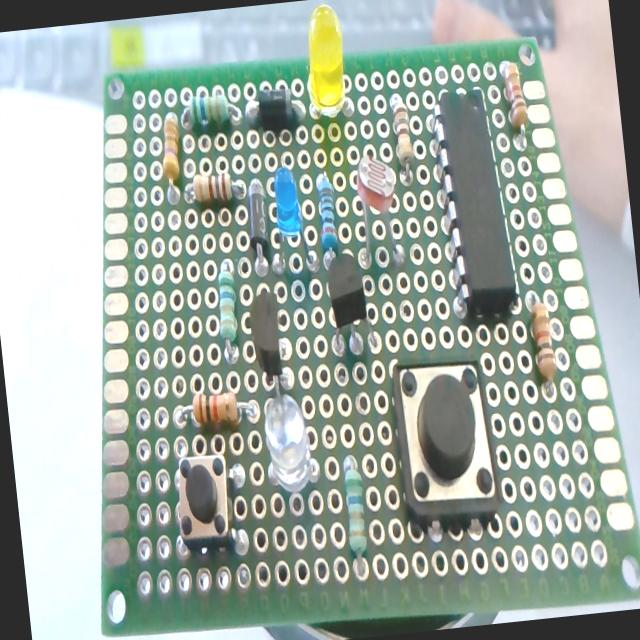IC: (434, 85, 519, 322)
cds: (350, 147, 404, 268)
diode: (241, 77, 310, 134), (242, 176, 272, 271)
led: (296, 1, 354, 120), (260, 387, 316, 494), (268, 162, 317, 273)
resistor: (338, 454, 372, 578), (210, 260, 244, 366), (176, 391, 257, 432), (156, 114, 186, 206), (180, 86, 242, 130), (500, 59, 530, 148), (528, 300, 558, 385), (314, 171, 341, 260), (390, 96, 416, 178), (184, 170, 242, 205)
switch: (389, 354, 502, 526), (170, 451, 236, 554)
transistor: (244, 282, 298, 402), (322, 252, 377, 361)
